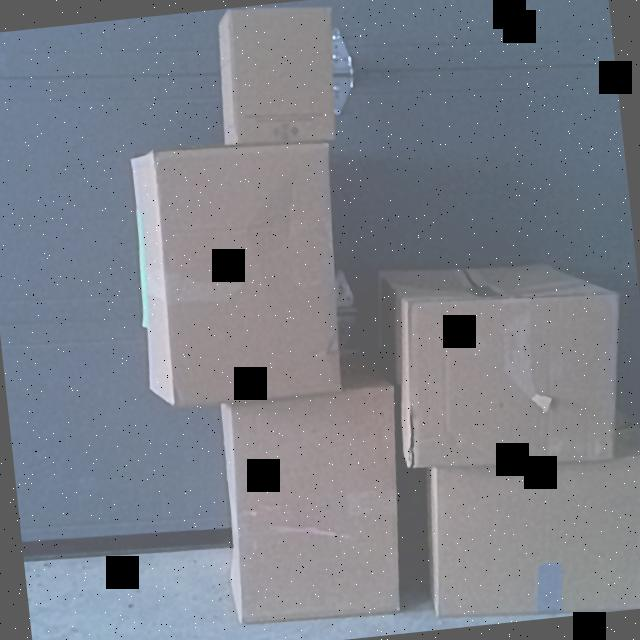box: (152, 137, 346, 407), (220, 388, 408, 624), (397, 282, 628, 474), (423, 446, 640, 619), (221, 0, 336, 150)
